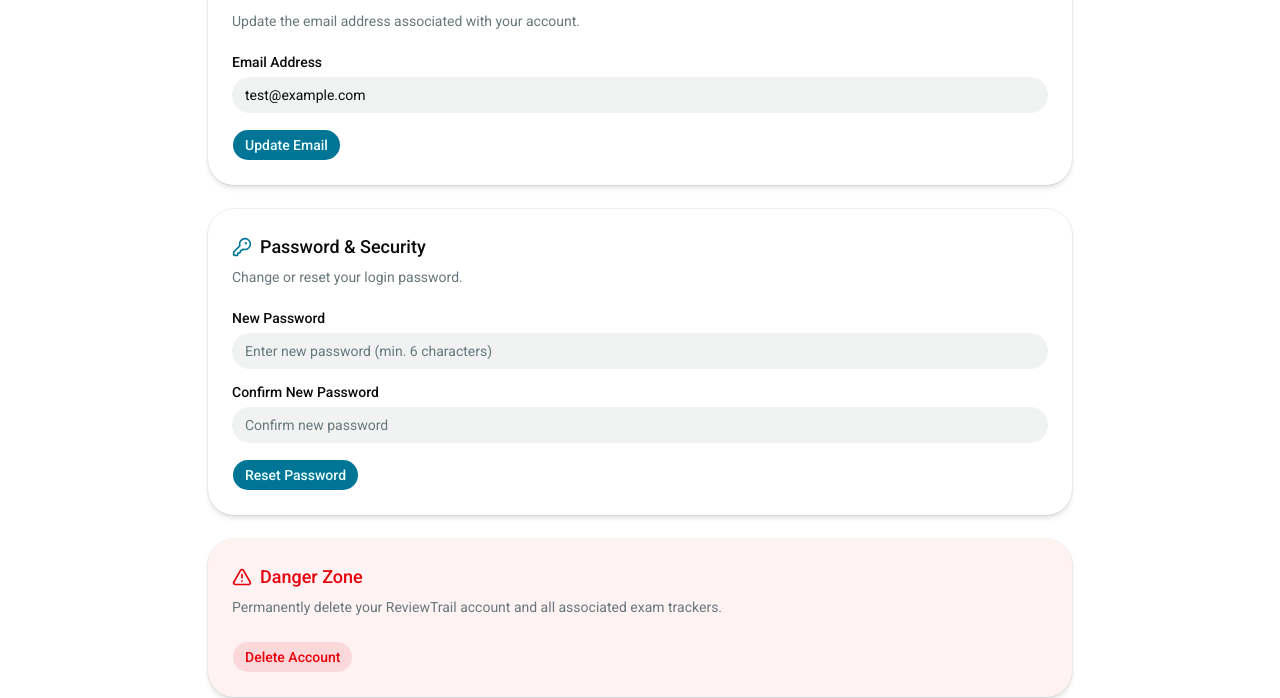
Test: SettingsPage Component › Password Form › handles successful password reset and clears password inputs
The image size is (1280, 698).
(page scrolled)
Type "newpassword123" into the password field labelled "New Password".
click(640, 351); type("newpassword123")  # box [232,333,1048,369]
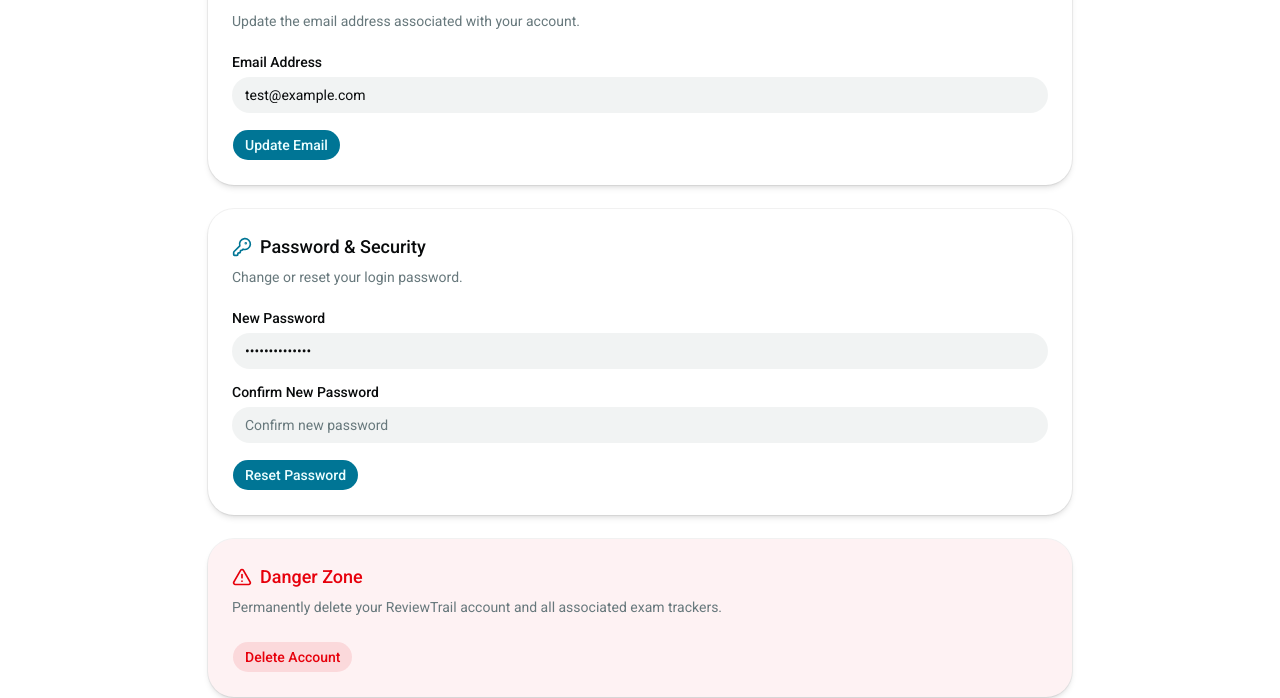
Type "newpassword123" into the password field labelled "Confirm New Password".
click(640, 425); type("newpassword123")  # box [232,407,1048,443]
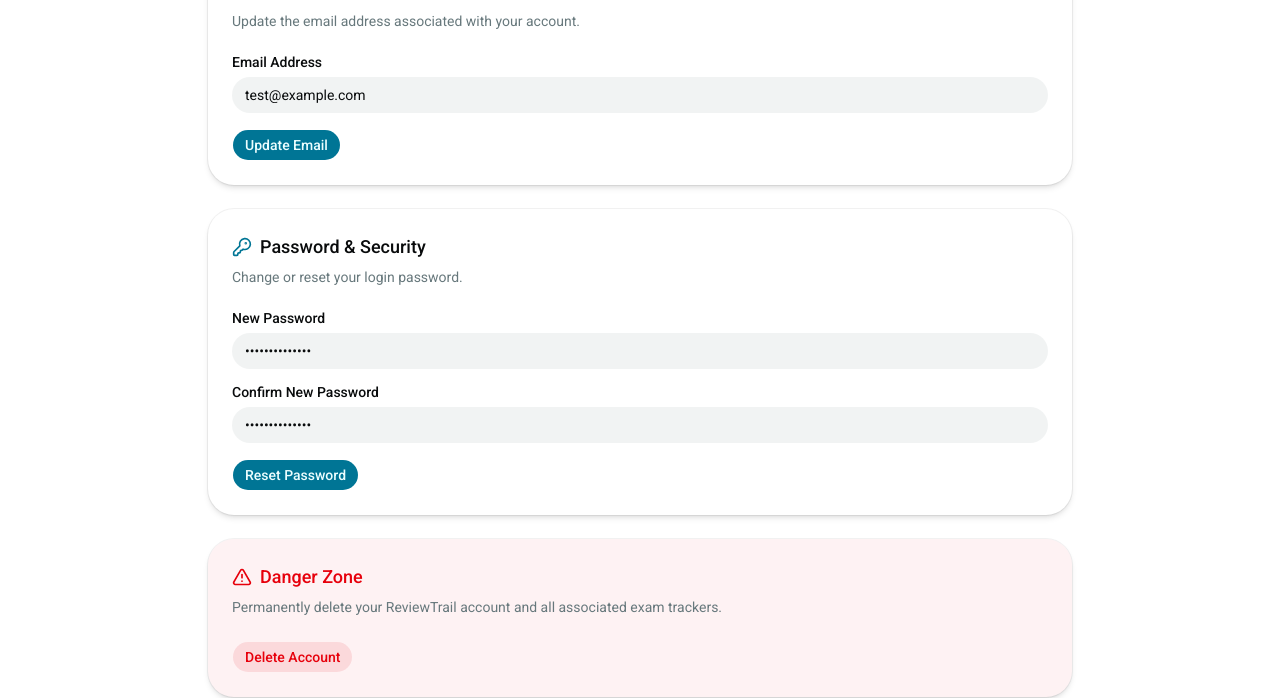
Click the button "Reset Password".
click(296, 475)  # box [232,459,359,491]
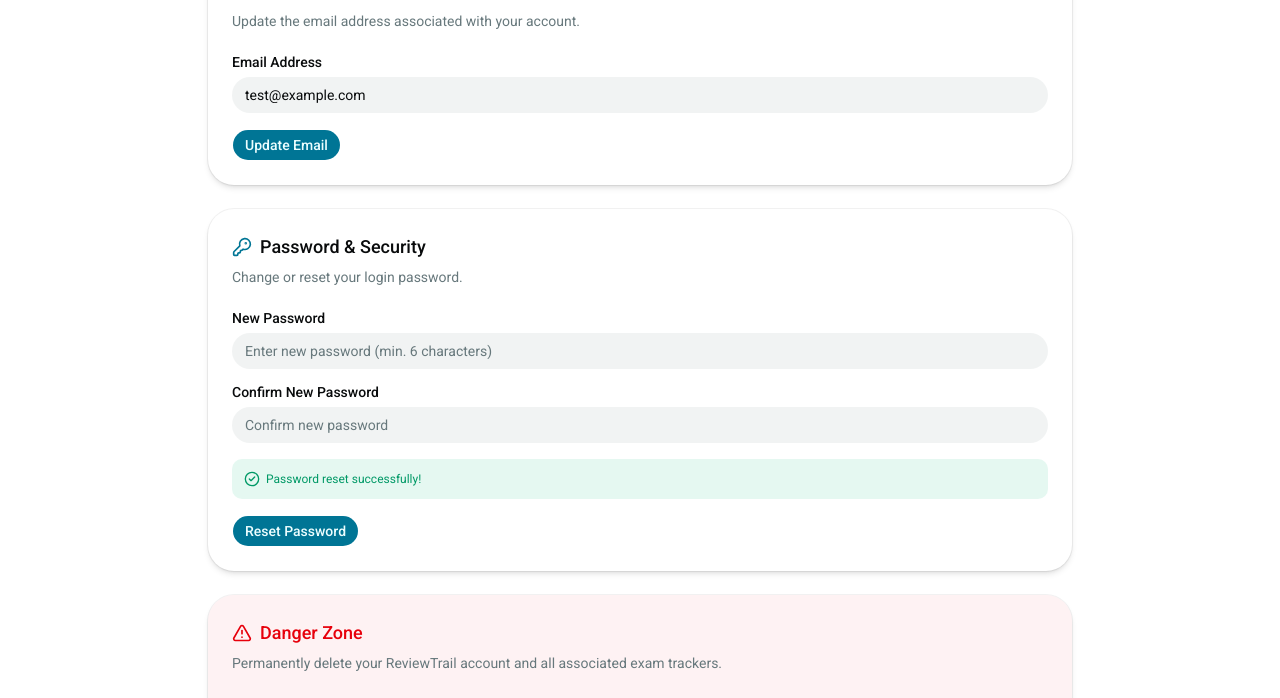
Now the text "Password reset successfully!" is shown, box [266,471,421,487]
Now the password field labelled "New Password" is empty, box [232,333,1048,369]
Now the password field labelled "Confirm New Password" is empty, box [232,407,1048,443]
